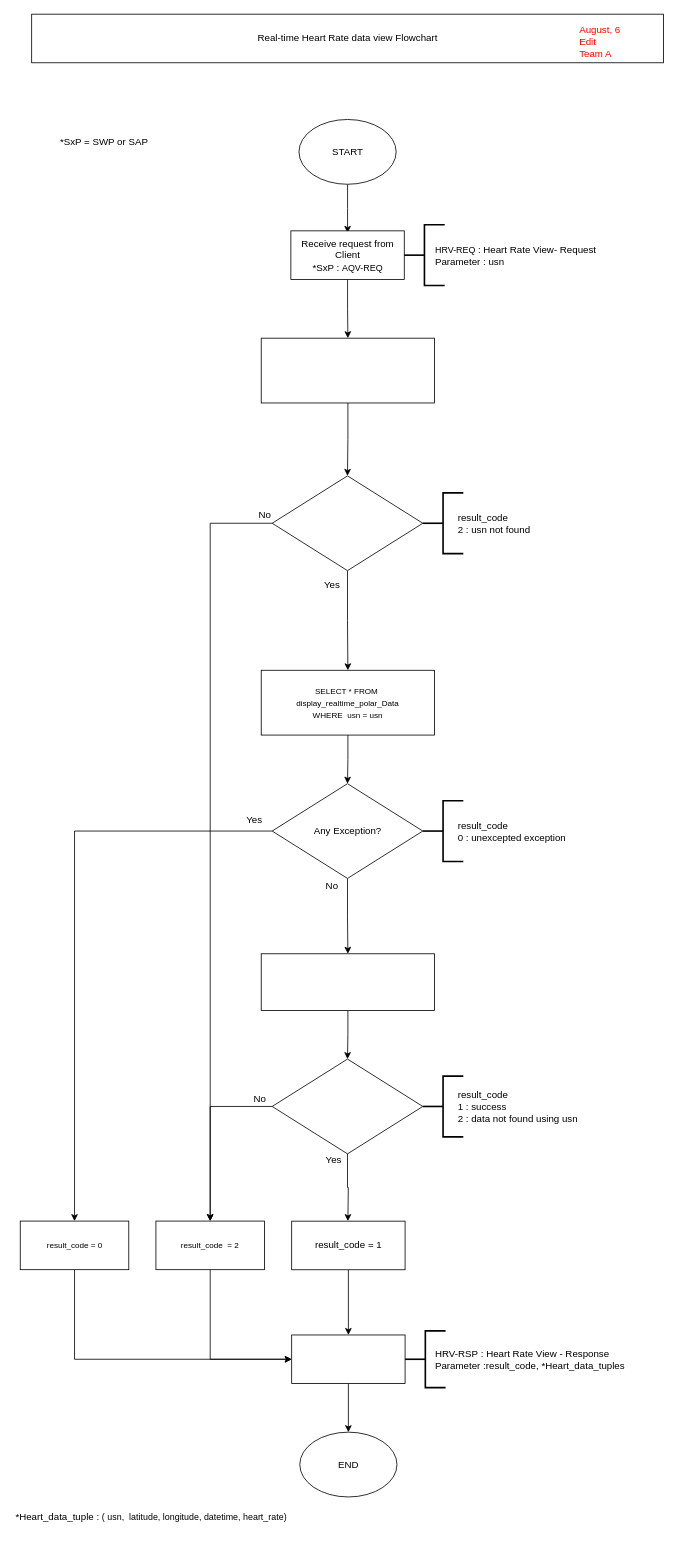
The diagram is 678 pixels wide and 1549 high, and some of its shapes have lost their labels. Here are the shapes that lost their labels. From the top down, the centre of each, then its label:
At point (347, 370): "SELECT * FROM user_authorized WHERE usn = $usn".
At point (347, 523): "Is there a usn?".
At point (347, 981): "affected_row_count = $query -> rowCount()".
At point (347, 1106): "affected_row_count > 0 ?".
At point (348, 1359): "Response to Client *SxP : SSD-RSP".
